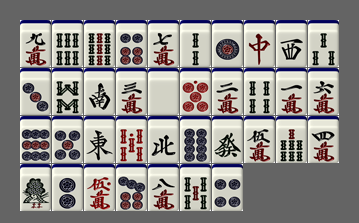0m: (84, 164, 115, 211)
0p: (180, 68, 211, 115)
0s: (116, 116, 147, 163)
1m: (276, 68, 307, 115)
1p: (212, 20, 243, 67)
1s: (20, 164, 51, 211)
1z: (84, 116, 115, 163)
2m: (212, 68, 243, 115)
2p: (52, 164, 83, 211)
2s: (180, 20, 211, 67)
2z: (84, 68, 115, 115)
3m: (116, 68, 147, 115)
3p: (20, 68, 51, 115)
3s: (308, 20, 339, 67)
3z: (276, 20, 307, 67)
4m: (308, 116, 339, 163)
4p: (212, 164, 243, 211)
4s: (244, 68, 275, 115)
4z: (148, 116, 179, 163)
5m: (244, 116, 275, 163)
5p: (52, 116, 83, 163)
5s: (180, 164, 211, 211)
5z: (148, 68, 179, 115)
6m: (308, 68, 339, 115)
6p: (116, 20, 147, 67)
6s: (52, 20, 83, 67)
6z: (212, 116, 243, 163)
7m: (148, 20, 179, 67)
7p: (116, 164, 147, 211)
7s: (276, 116, 307, 163)
7z: (244, 20, 275, 67)
8m: (148, 164, 179, 211)
8p: (180, 116, 211, 163)
8s: (52, 68, 83, 115)
9m: (20, 20, 51, 67)
9p: (20, 116, 51, 163)
9s: (84, 20, 115, 67)
